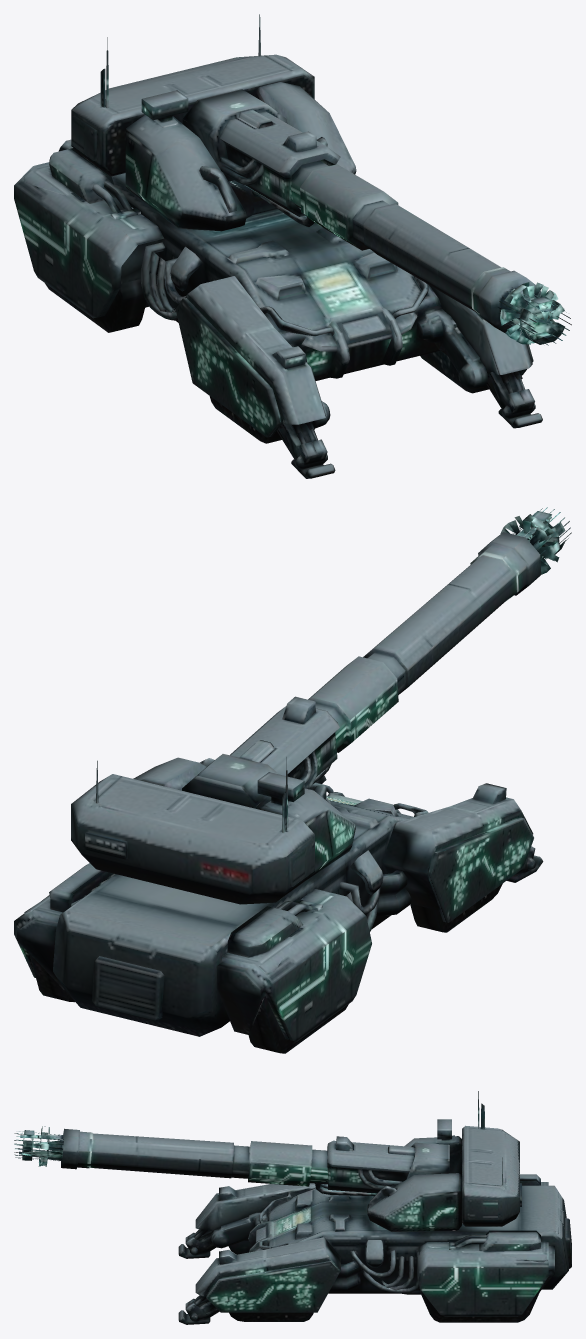
File: artillerie_tripod.glb
3 renders of one model, top to bottom at view 1: azimuth 30°, elevation 25°; view 2: azimuth 150°, elevation 25°; view 3: azimuth 270°, elevation 25°, orthographic. The views are drawn at different scales.
Visible parts, largest first — view 1: tripo_node_973b5565-da00-45e3-a428-1f0faf04aadb; view 2: tripo_node_973b5565-da00-45e3-a428-1f0faf04aadb; view 3: tripo_node_973b5565-da00-45e3-a428-1f0faf04aadb.
Part boxes in pixels (left/top/right/bottom): tripo_node_973b5565-da00-45e3-a428-1f0faf04aadb: left=14, top=14, right=571, bottom=478; tripo_node_973b5565-da00-45e3-a428-1f0faf04aadb: left=14, top=507, right=571, bottom=1053; tripo_node_973b5565-da00-45e3-a428-1f0faf04aadb: left=14, top=1091, right=571, bottom=1324.
Size of the model in its own units: 0.3491 by 0.3511 by 0.9995.
Materials: 1 (1 with a texture image).
